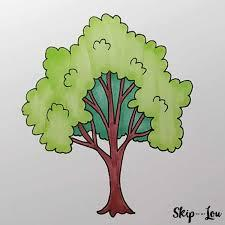tree: (21, 13, 194, 217)
